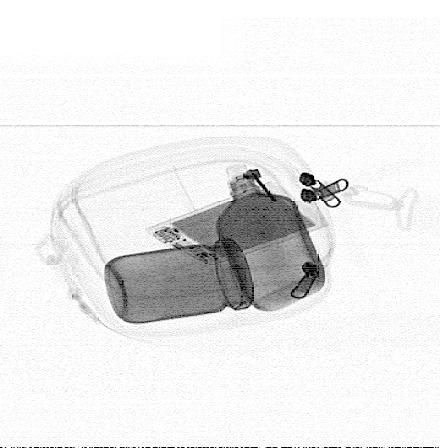Powerbank: (144, 180, 322, 268)
